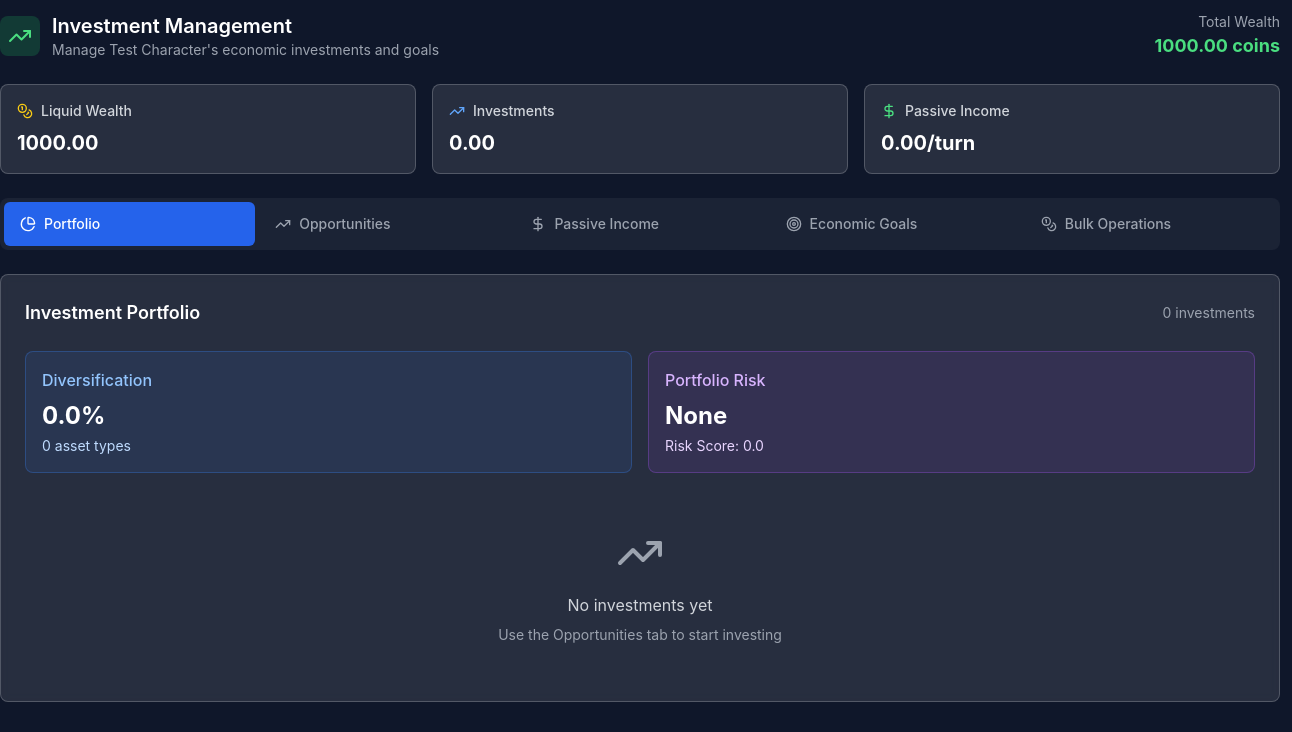
Scenario: InvestmentEditor Basic Tests › maintains component state when switching tabs
The image size is (1292, 732).
Switch to opportunities and back to portfolio
What coordinates should you click on to do the following:
click the button "Opportunities"
I would click on:
 (385, 224)
Its box is [259, 202, 510, 246].
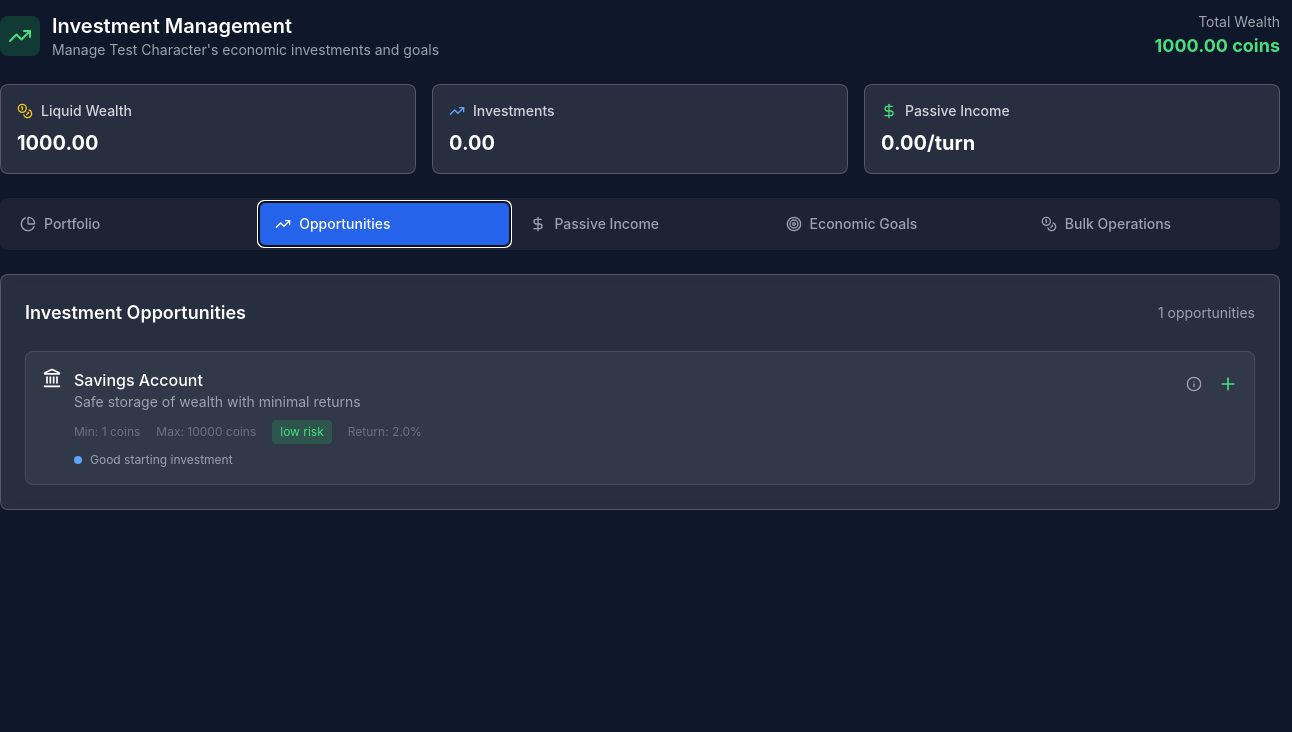
What coordinates should you click on to do the following:
click the button "Portfolio"
I would click on:
 (130, 224)
Its box is [4, 202, 255, 246].
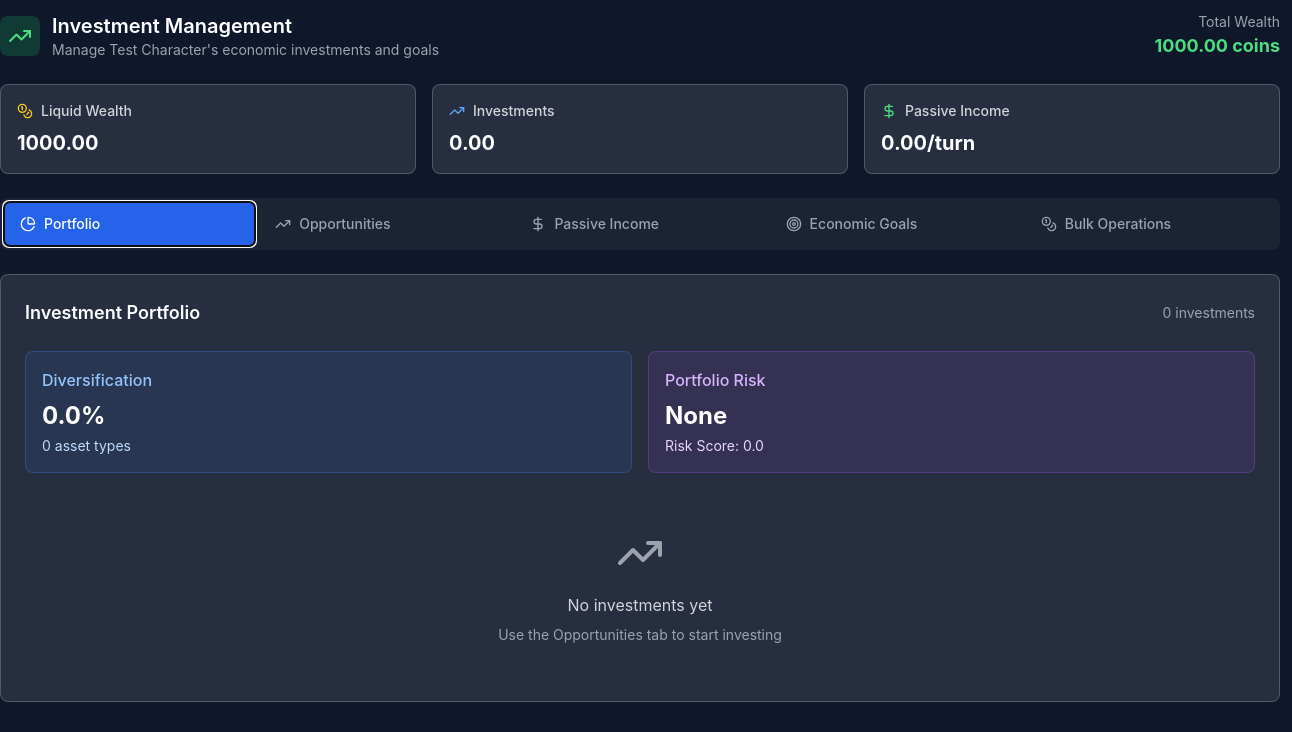
Now the heading "Investment Portfolio" is shown, box [25, 299, 200, 327]
